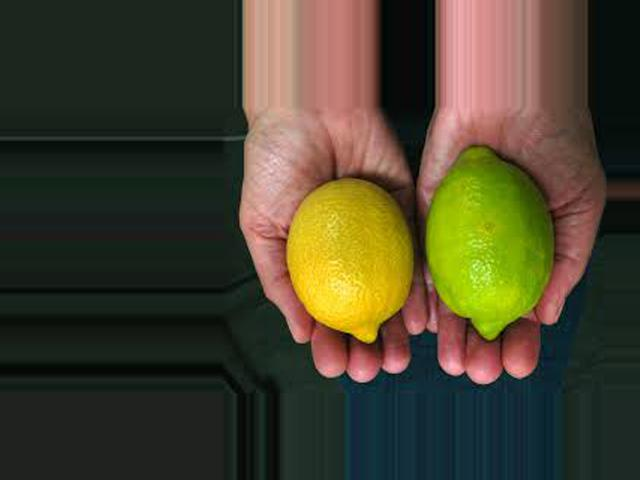lemon: (287, 171, 415, 340)
